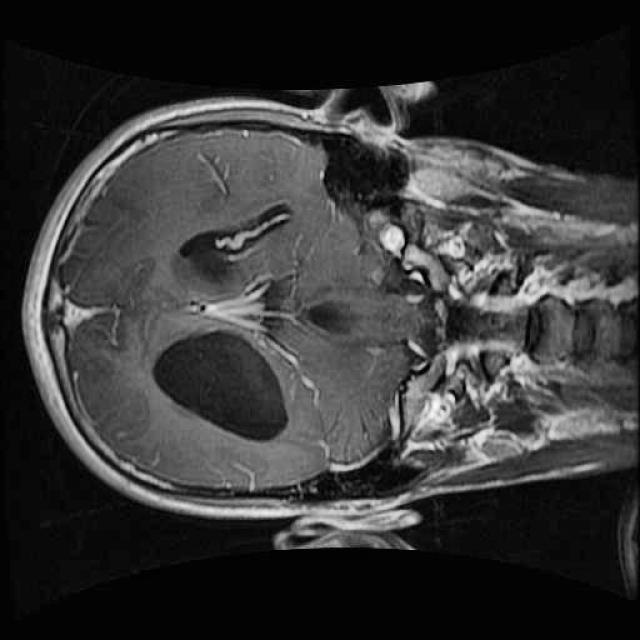Non-Tumor: (64, 335, 164, 460)
